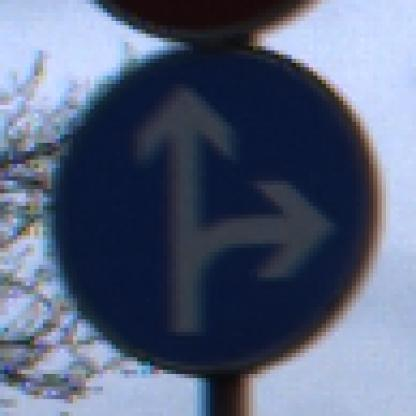Straight or Right: (40, 39, 383, 383)
